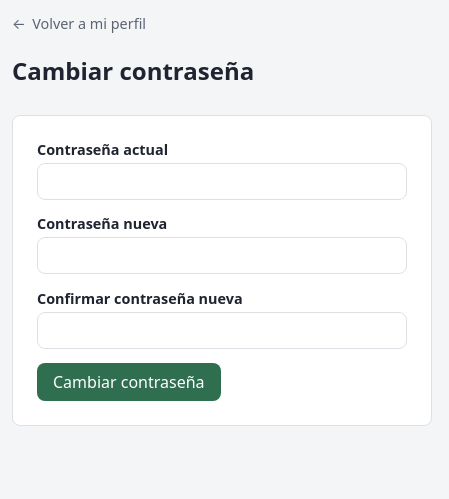
Scenario: ChangePassword › si la nueva contraseña es igual a la actual, muestra el error
This screenshot has width=449, height=499.
In the password field labelled "Contraseña actual": (222, 182) top-left (37, 163), bottom-right (407, 200), type "igual1234"
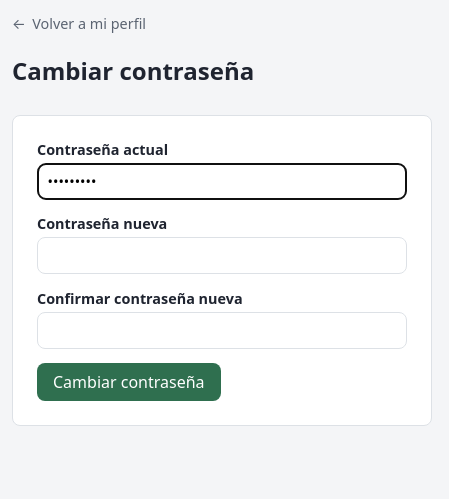
In the password field labelled "Contraseña nueva": (222, 256) top-left (37, 237), bottom-right (407, 274), type "igual1234"
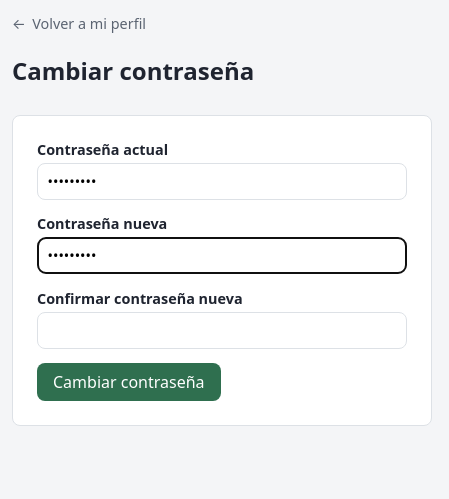
In the password field labelled "Confirmar contraseña nueva": (222, 330) top-left (37, 312), bottom-right (407, 349), type "igual1234"
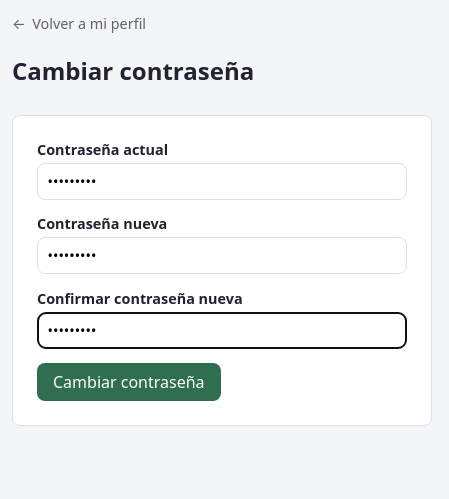
Click the button "Cambiar contraseña": click(129, 382) top-left (37, 363), bottom-right (221, 401)
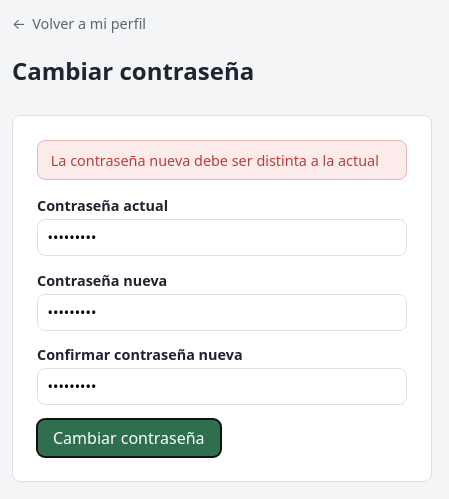
Expected: the text "La contraseña nueva debe ser distinta a la actual" is shown, top-left (37, 140), bottom-right (407, 180)
